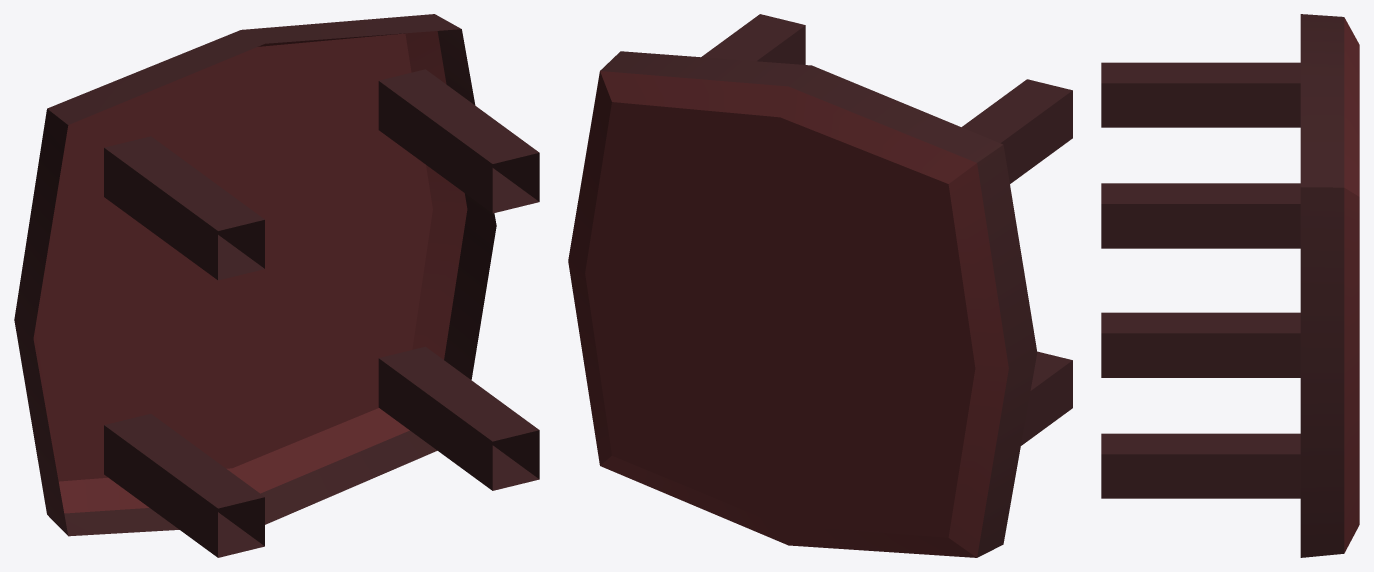
Rendered from Side Table 01.FBX.
The picture shows the model from 3 angles, left to right: view 1: azimuth 30°, elevation 25°; view 2: azimuth 150°, elevation 25°; view 3: azimuth 270°, elevation 25°; orthographic projection. The views are drawn at different scales.
Parts seen in each view (by area): view 1: Side Table 01; view 2: Side Table 01; view 3: Side Table 01.
Boxes of the visible parts, x1=… form: Side Table 01: x1=14, y1=14, x2=539, y2=557; Side Table 01: x1=568, y1=14, x2=1072, y2=557; Side Table 01: x1=1101, y1=14, x2=1359, y2=557.
Bounding box in the file's own units: 90.5 × 89.84 × 48.51.
